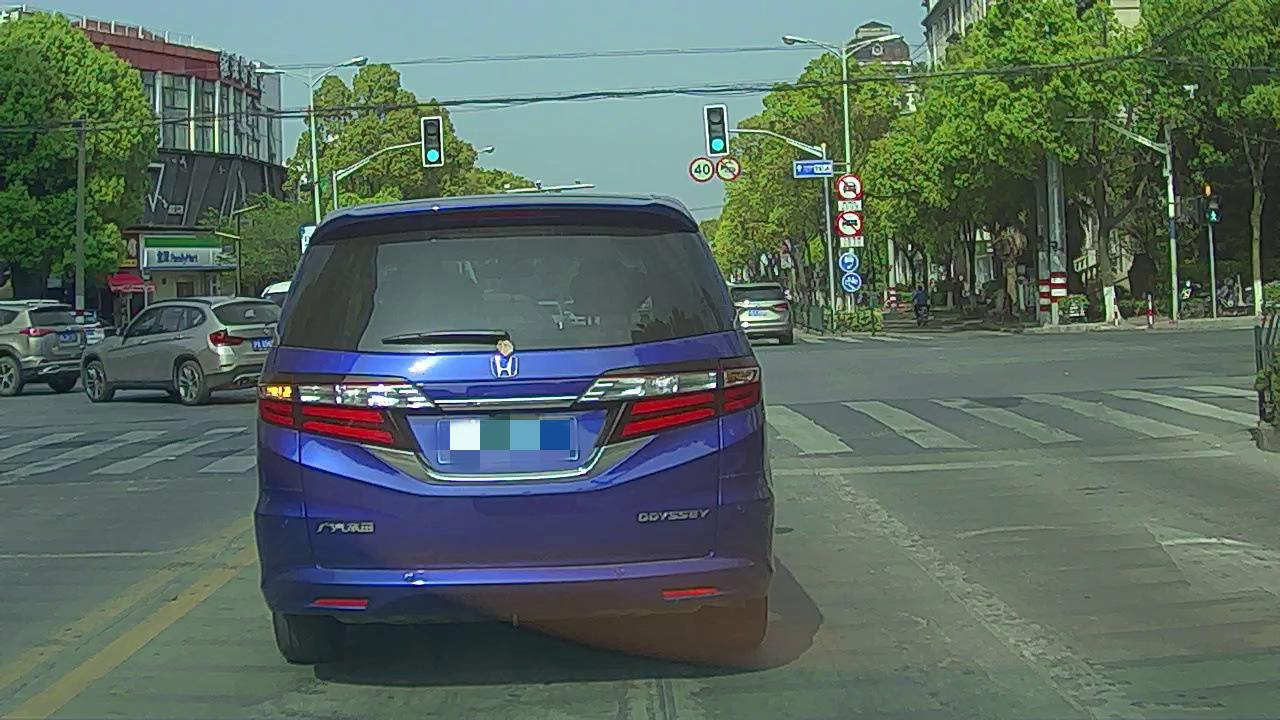traffic_light: (707, 108, 728, 154), (423, 117, 443, 163)
